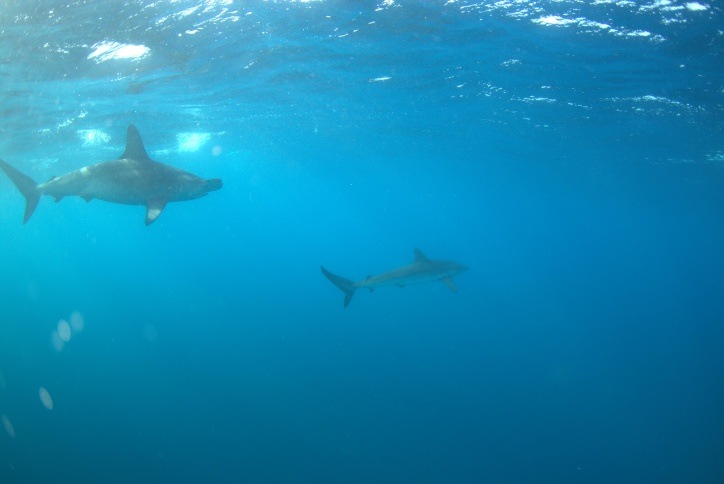Sedoso: (298, 237, 483, 310)
